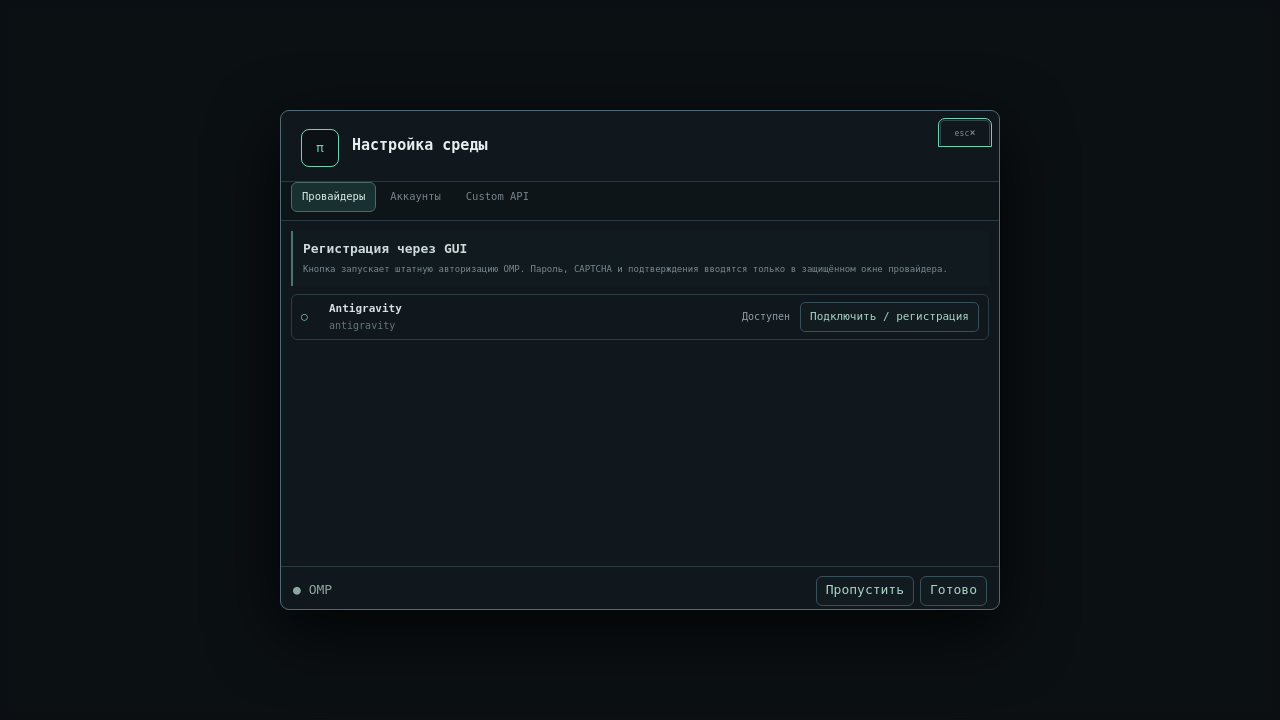
Test: OmpSetupOverlay › starts the real provider login flow and refreshes authentication state
Click the button with aria-label "Подключить Antigravity": (890, 317) [800,302,979,332]
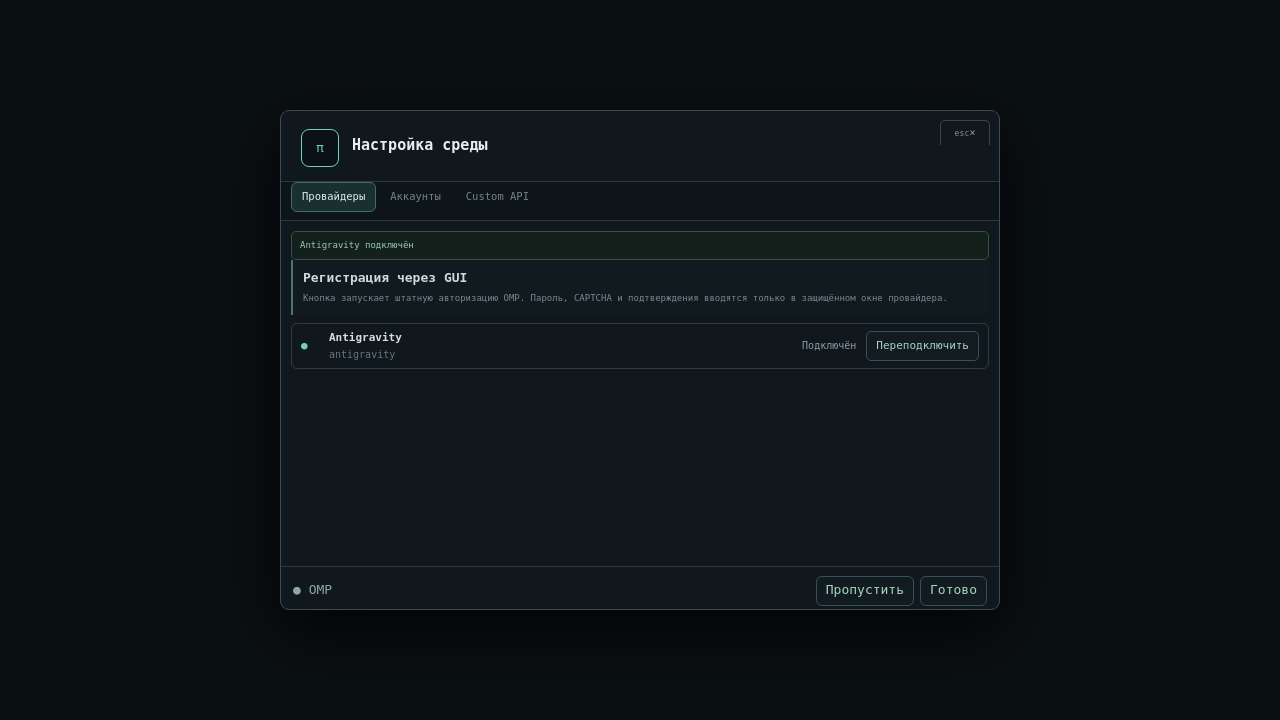
Expected: the button with aria-label "Переподключить Antigravity" is shown, [866,331,979,361]
Expected: the text "Antigravity подключён" is shown, [291,231,989,260]
